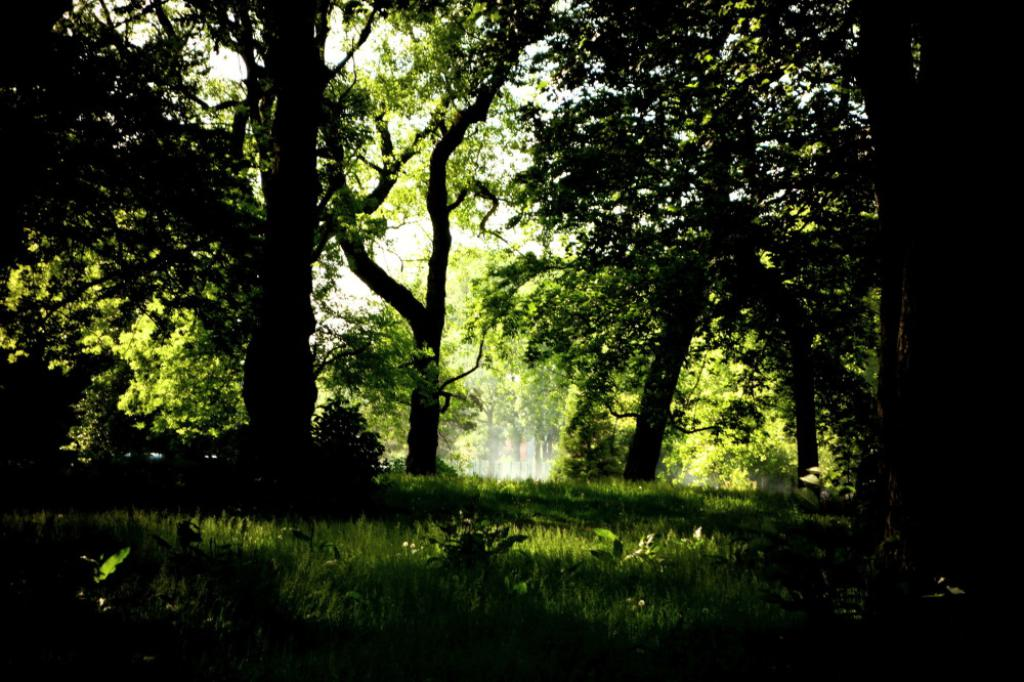Tree: (4, 3, 1022, 571)
